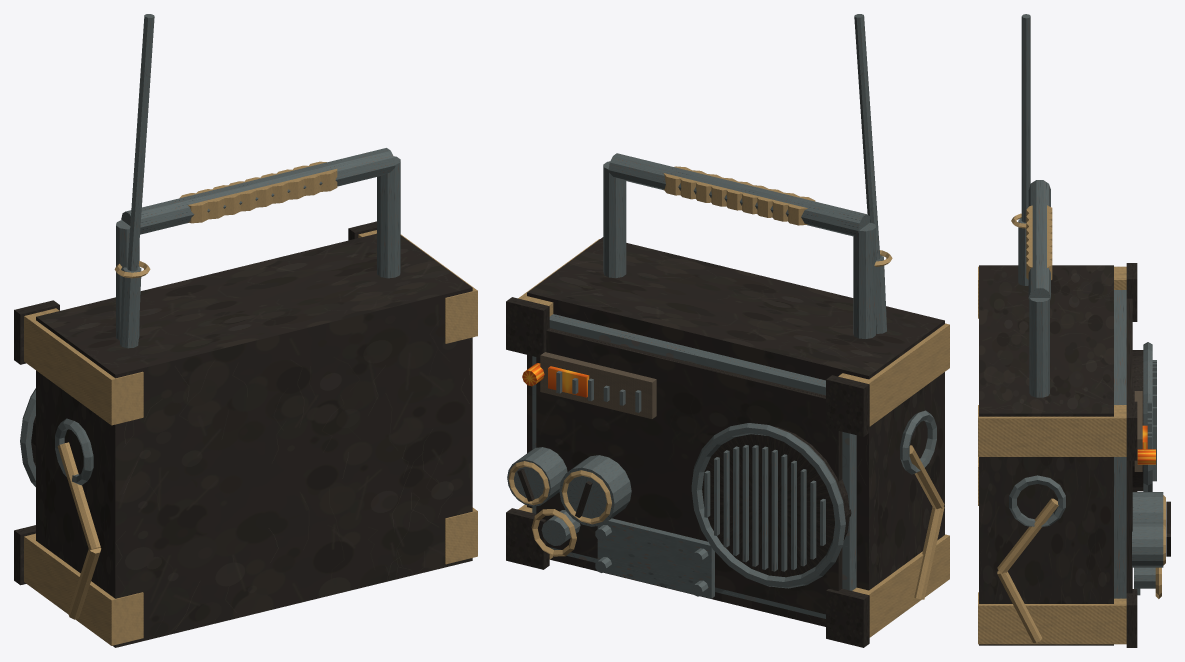
File: pr-005_portable_radio__active.obj
3 views of the same model, side by side, from view 1: azimuth 30°, elevation 25°; view 2: azimuth 150°, elevation 25°; view 3: azimuth 270°, elevation 25° (orthographic). The views are drawn at different scales.
Parts seen in each view (by area): view 1: pr-005_portable_radio__active; view 2: pr-005_portable_radio__active; view 3: pr-005_portable_radio__active.
Boxes of the visible parts, left/top/right/bottom form: pr-005_portable_radio__active: left=14, top=14, right=477, bottom=647; pr-005_portable_radio__active: left=506, top=14, right=949, bottom=647; pr-005_portable_radio__active: left=978, top=14, right=1170, bottom=647.
Size of the model in its own units: 0.269 by 0.4019 by 0.1386.
Materials: 5 (5 with a texture image).
